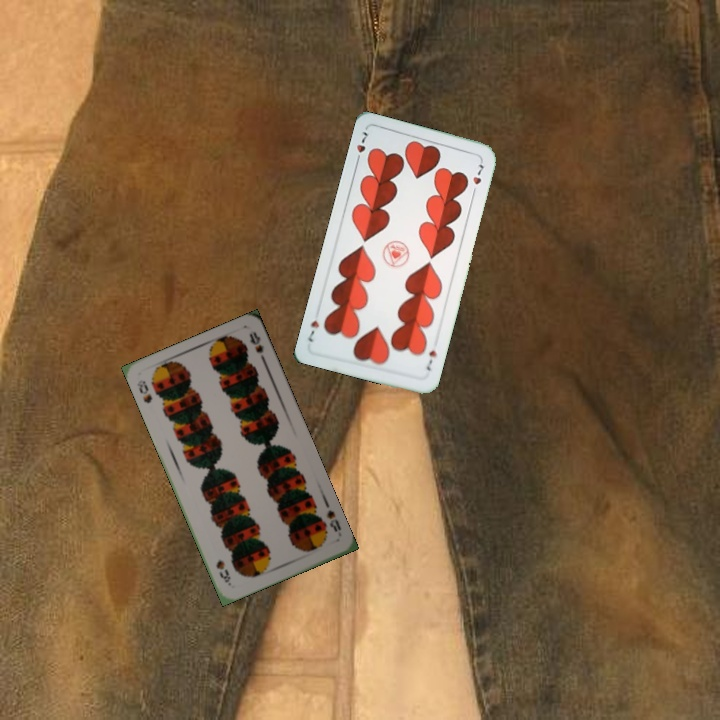H7: (352, 128, 370, 166), (423, 344, 440, 373)
S8: (323, 506, 344, 539), (132, 376, 155, 406)
